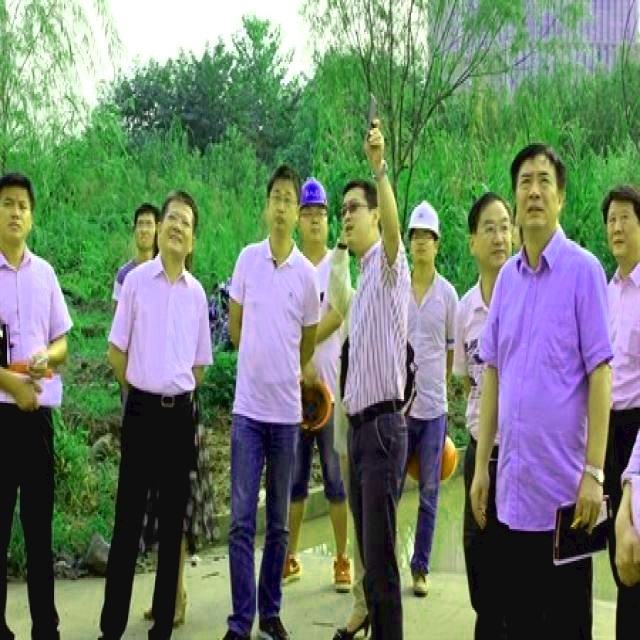Con_Casco: (407, 196, 441, 265)
Sin_Casco_Mascarrilla: (510, 142, 568, 239)
Sin_Chaleco: (236, 241, 318, 404), (124, 264, 208, 396)
